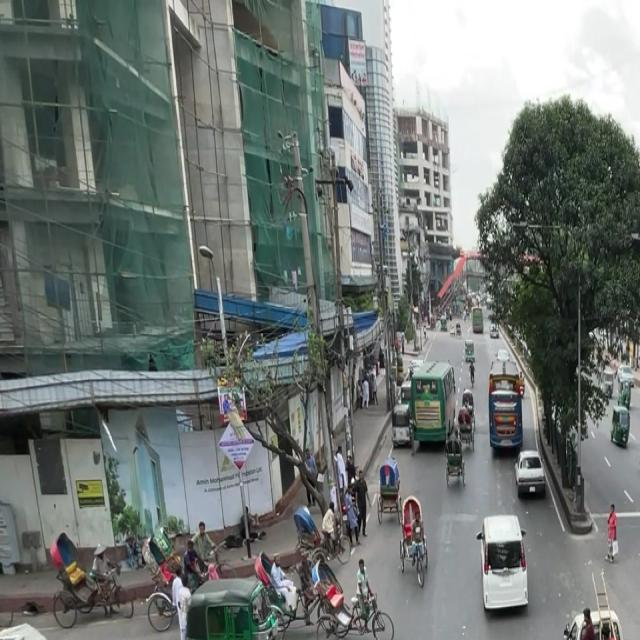bus: (412, 353, 458, 456), (486, 353, 526, 461)
car: (470, 506, 539, 623), (509, 436, 550, 508)
motorbike: (636, 427, 640, 482)
rickshaw: (178, 574, 289, 640)
van: (557, 600, 640, 640)
